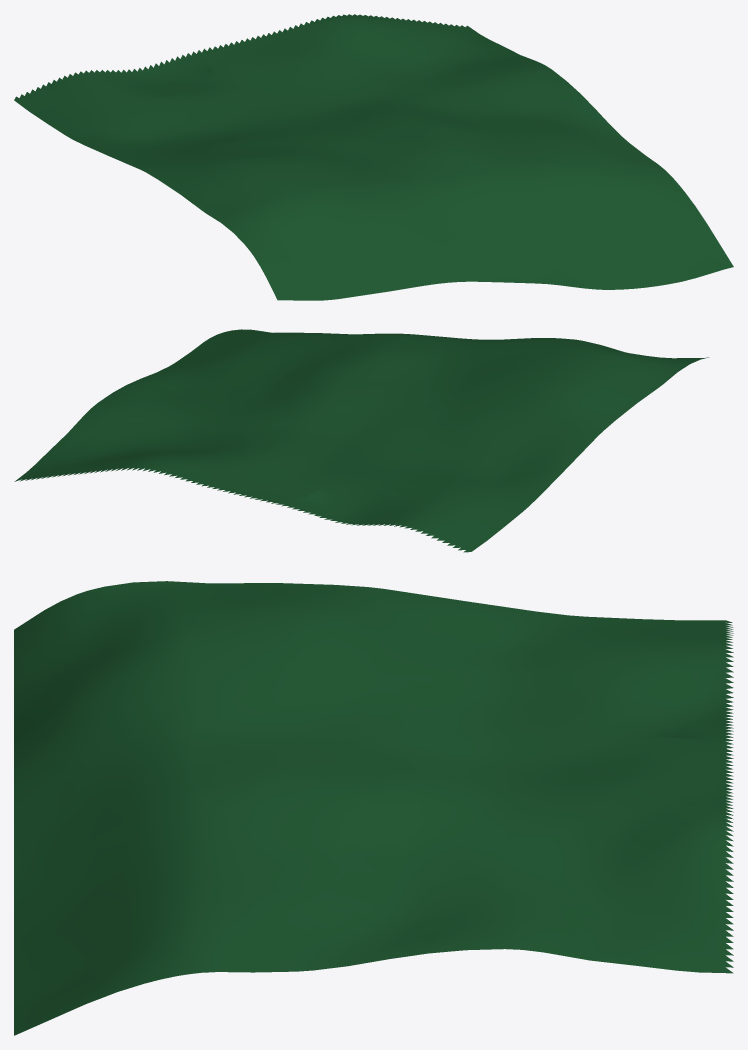
File: payo_land_xm3_ym1_lod2.glb
The picture shows the model from 3 angles, top to bottom: view 1: azimuth 30°, elevation 25°; view 2: azimuth 150°, elevation 25°; view 3: azimuth 270°, elevation 25°; orthographic projection. The views are drawn at different scales.
Visible parts, largest first — view 1: payo_land_xm3_ym1; view 2: payo_land_xm3_ym1; view 3: payo_land_xm3_ym1.
Boxes of the visible parts, box(x1,y1,x2,y2) form: payo_land_xm3_ym1: box(14, 14, 733, 300); payo_land_xm3_ym1: box(14, 329, 709, 552); payo_land_xm3_ym1: box(14, 581, 733, 1035).
Bounding box in the file's own units: 255 × 65.93 × 258.
